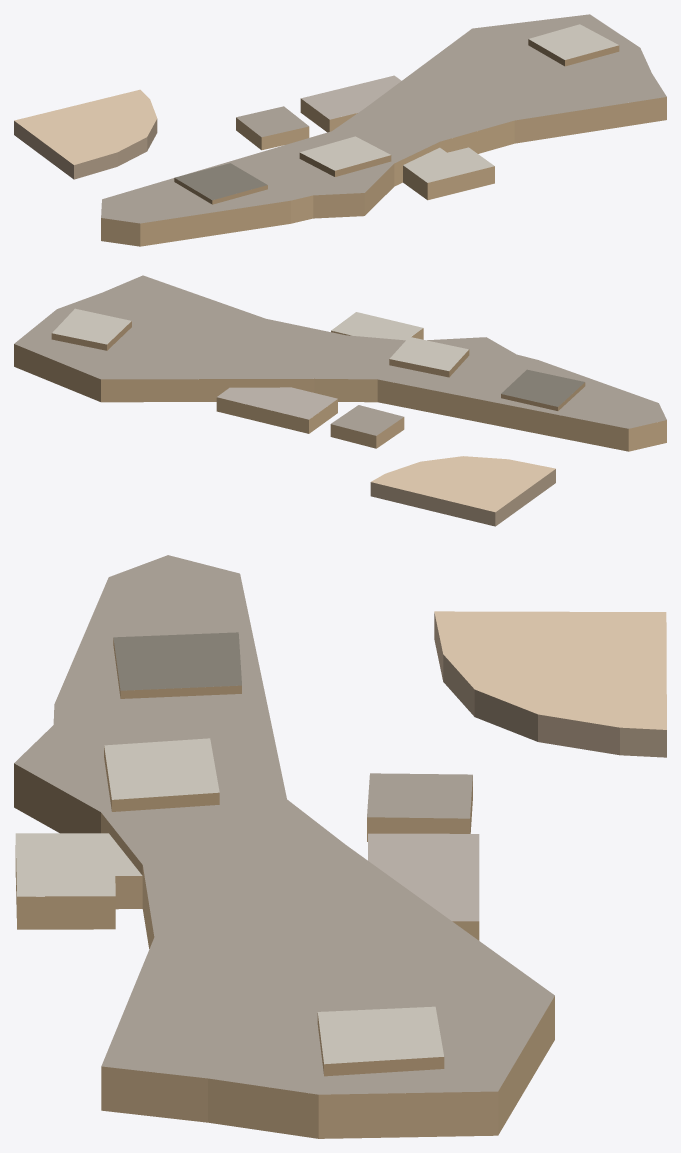
The model's file is lok_virsa_far.glb.
3 views of the same model, one above another, from view 1: azimuth 30°, elevation 25°; view 2: azimuth 150°, elevation 25°; view 3: azimuth 270°, elevation 25° (orthographic). The views are drawn at different scales.
Parts seen in each view (by area): view 1: m_roof_low, m_wall_cream, m_amph_seat, m_roof_monitor, m_amph_wall, m_roof_main, m_roof_monitor_dark, m_fascia_cream; view 2: m_roof_low, m_wall_cream, m_amph_seat, m_roof_monitor, m_amph_wall, m_roof_main, m_roof_monitor_dark, m_fascia_cream; view 3: m_roof_low, m_wall_cream, m_amph_seat, m_roof_monitor, m_roof_main, m_roof_monitor_dark, m_amph_wall, m_fascia_cream.
Boxes of the visible parts, bbox=[...] form: m_roof_low: bbox=[101, 14, 666, 223]; m_wall_cream: bbox=[101, 97, 666, 246]; m_amph_seat: bbox=[14, 89, 157, 164]; m_roof_monitor: bbox=[300, 24, 618, 182]; m_amph_wall: bbox=[14, 119, 157, 179]; m_roof_main: bbox=[301, 75, 401, 119]; m_roof_monitor_dark: bbox=[175, 163, 266, 200]; m_fascia_cream: bbox=[174, 39, 619, 204]; m_roof_low: bbox=[14, 275, 666, 435]; m_wall_cream: bbox=[14, 328, 666, 451]; m_amph_seat: bbox=[371, 456, 555, 512]; m_roof_monitor: bbox=[52, 308, 468, 370]; m_amph_wall: bbox=[370, 469, 555, 526]; m_roof_main: bbox=[217, 387, 337, 419]; m_roof_monitor_dark: bbox=[501, 369, 584, 406]; m_fascia_cream: bbox=[51, 321, 585, 410]; m_roof_low: bbox=[14, 555, 554, 1094]; m_wall_cream: bbox=[14, 763, 554, 1138]; m_amph_seat: bbox=[434, 611, 666, 729]; m_roof_monitor: bbox=[15, 738, 443, 1064]; m_roof_main: bbox=[368, 833, 479, 921]; m_roof_monitor_dark: bbox=[113, 632, 241, 690]; m_amph_wall: bbox=[434, 613, 666, 757]; m_fascia_cream: bbox=[104, 638, 444, 1076].
Bounding box in the file's own units: 209 × 10.2 × 107.
